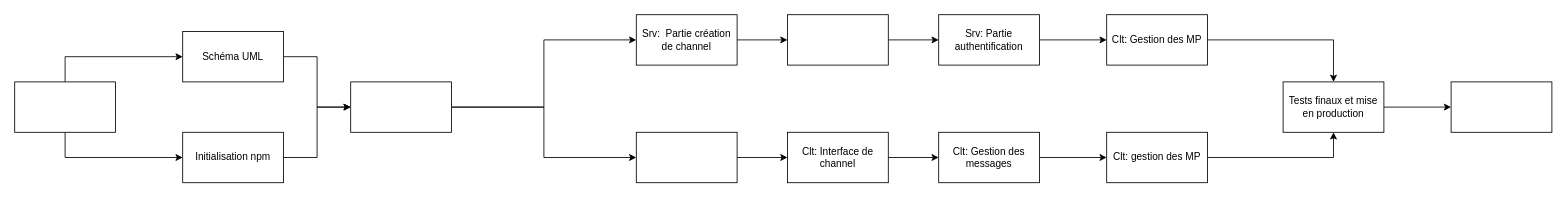
This 1567x197 diagram has some shape labels left out. The centre of each missing label's shape, as x and y in pixels:
"Clt: Connexion au serveur" belongs at point 686,157.
"Définition des commandes" belongs at point 401,106.
"END" belongs at point 1501,106.
"Srv: Partie envoi de messages" belongs at point 837,39.
"Start" belongs at point 65,106.
